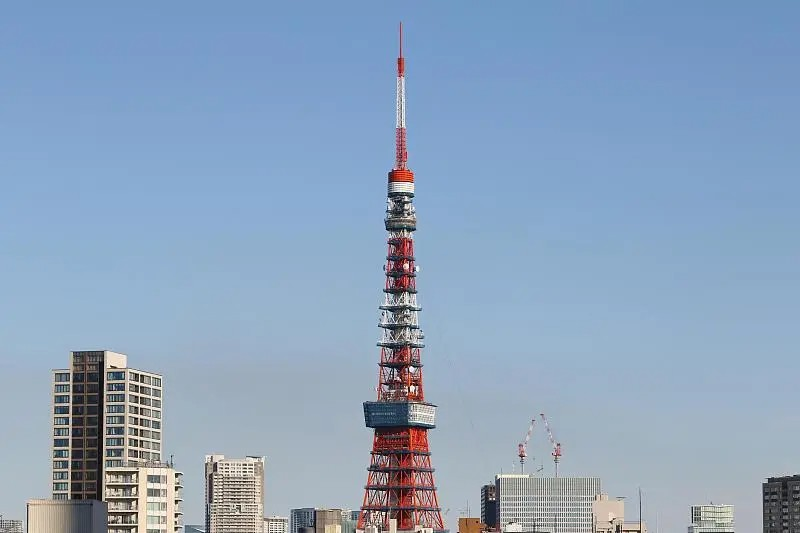Tokyo: (357, 20, 444, 530)
